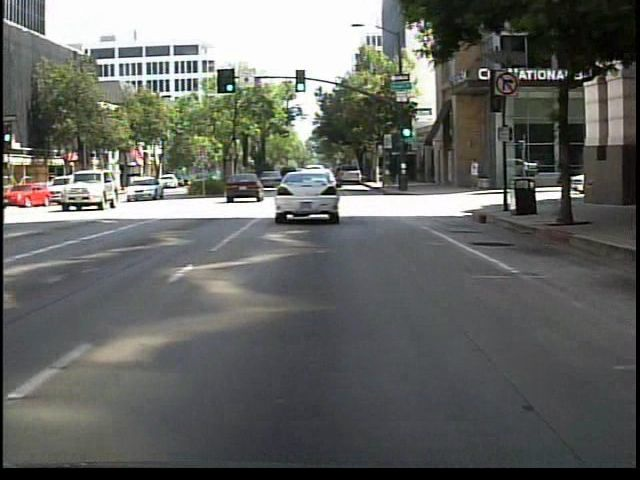person: (468, 154, 484, 194)
